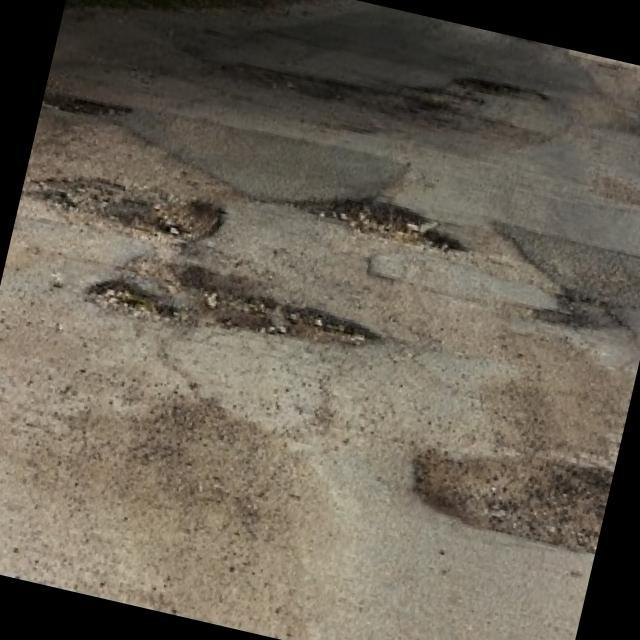Pothole: (86, 238, 390, 368), (400, 422, 614, 558), (17, 156, 228, 255), (286, 180, 470, 260), (530, 284, 626, 341), (452, 69, 550, 108), (41, 85, 132, 125)
